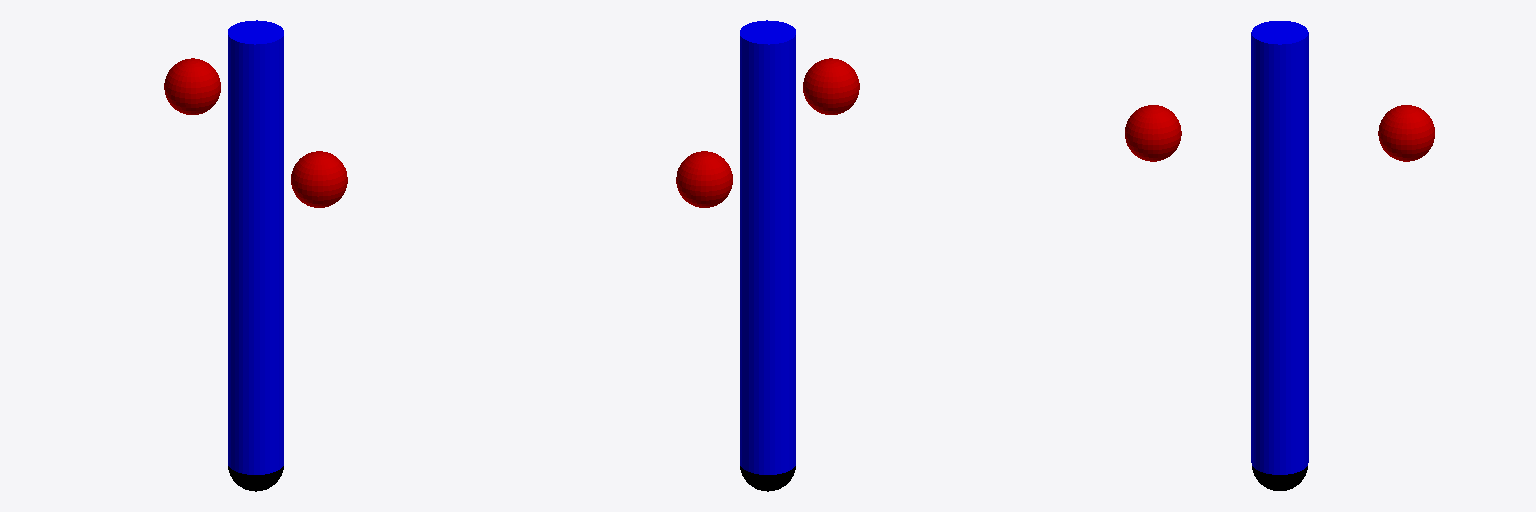
robot.urdf — xarm7:
<?xml version="1.0" ?>
<robot name="xarm7">
  <link name="world"/>
  <joint name="world_joint" type="fixed">
    <parent link="world"/>
    <child link="link_base"/>
    <origin rpy="0 0 0" xyz="0 0 0"/>
  </joint>
  <material name="Black">
    <color rgba="0.0 0.0 0.0 1.0"/>
  </material>
  <material name="Red">
    <color rgba="0.8 0.0 0.0 1.0"/>
  </material>
  <material name="White">
    <color rgba="1.0 1.0 1.0 1.0"/>
  </material>
  <material name="Silver">
    <color rgba="0.753 0.753 0.753 1.0"/>
  </material>
  <link name="link_base">
    <inertial>
      <origin rpy="0 0 0" xyz="-0.021131 -0.0016302 0.056488"/>
      <mass value="0.88556"/>
      <inertia ixx="0.0030595" ixy="0.00012259" ixz="-0.00062705" iyy="0.0037783" iyz="0.00027023" izz="0.0020125"/>
    </inertial>
    <visual>
      <origin rpy="0 0 0" xyz="0 0 0"/>
      <geometry>
        <mesh filename="meshes/xarm7/visual/link_base_smooth.STL"/>
      </geometry>
      <material name="White"/>
    </visual>
    <collision>
      <origin rpy="0 0 0" xyz="0 0 0"/>
      <geometry>
        <mesh filename="meshes/xarm7/collision/linkbase.obj"/>
      </geometry>
    </collision>
  </link>
  <link name="link1">
    <inertial>
      <origin rpy="0 0 0" xyz="-0.0042142 0.02821 -0.0087788"/>
      <mass value="0.42603"/>
      <inertia ixx="0.0014243" ixy="3.9946E-05" ixz="4.7078E-06" iyy="0.00123" iyz="-0.00026073" izz="0.00099229"/>
    </inertial>
    <visual>
      <origin rpy="0 0 0" xyz="0 0 0"/>
      <geometry>
        <mesh filename="meshes/xarm7/visual/link1_smooth.STL"/>
      </geometry>
      <material name="White"/>
    </visual>
    <collision>
      <origin rpy="0 0 0" xyz="0 0 0"/>
      <geometry>
        <mesh filename="meshes/xarm7/collision/link1_vhacd.obj"/>
      </geometry>
    </collision>
  </link>
  <joint name="joint1" type="revolute">
    <origin rpy="0 0 0" xyz="0 0 0.267"/>
    <parent link="link_base"/>
    <child link="link1"/>
    <axis xyz="0 0 1"/>
    <limit effort="50" lower="-6.28318530718" upper="6.28318530718" velocity="3.14"/>
    <dynamics damping="10" friction="1"/>
  </joint>
  <link name="link2">
    <inertial>
      <origin rpy="0 0 0" xyz="-3.3178E-05 -0.12849 0.026337"/>
      <mass value="0.56095"/>
      <inertia ixx="0.0031915" ixy="3.0892E-06" ixz="2.8729E-06" iyy="0.0017468" iyz="-0.0010241" izz="0.00235"/>
    </inertial>
    <visual>
      <origin rpy="0 0 0" xyz="0 0 0"/>
      <geometry>
        <mesh filename="meshes/xarm7/visual/link2_smooth.STL"/>
      </geometry>
      <material name="White"/>
    </visual>
    <collision>
      <origin rpy="0 0 0" xyz="0 0 0"/>
      <geometry>
        <mesh filename="meshes/xarm7/collision/link2_vhacd.obj"/>
      </geometry>
    </collision>
  </link>
  <joint name="joint2" type="revolute">
    <origin rpy="-1.5708 0 0" xyz="0 0 0"/>
    <parent link="link1"/>
    <child link="link2"/>
    <axis xyz="0 0 1"/>
    <limit effort="50" lower="-2.059" upper="2.0944" velocity="3.14"/>
    <dynamics damping="10" friction="1"/>
  </joint>
  <link name="link3">
    <inertial>
      <origin rpy="0 0 0" xyz="0.04223 -0.023258 -0.0096674"/>
      <mass value="0.44463"/>
      <inertia ixx="0.0011454" ixy="0.0001654" ixz="-0.0001951" iyy="0.0010503" iyz="0.00012027" izz="0.0011083"/>
    </inertial>
    <visual>
      <origin rpy="0 0 0" xyz="0 0 0"/>
      <geometry>
        <mesh filename="meshes/xarm7/visual/link3_smooth.STL"/>
      </geometry>
      <material name="White"/>
    </visual>
    <collision>
      <origin rpy="0 0 0" xyz="0 0 0"/>
      <geometry>
        <mesh filename="meshes/xarm7/collision/link3_vhacd.obj"/>
      </geometry>
    </collision>
  </link>
  <joint name="joint3" type="revolute">
    <origin rpy="1.5708 0 0" xyz="0 -0.293 0"/>
    <parent link="link2"/>
    <child link="link3"/>
    <axis xyz="0 0 1"/>
    <limit effort="30" lower="-6.28318530718" upper="6.28318530718" velocity="3.14"/>
    <dynamics damping="5" friction="1"/>
  </joint>
  <link name="link4">
    <inertial>
      <origin rpy="0 0 0" xyz="0.067148 -0.10732 0.024479"/>
      <mass value="0.52387"/>
      <inertia ixx="0.0026033" ixy="0.00053379" ixz="0.00036314" iyy="0.0017649" iyz="-0.00083253" izz="0.0022431"/>
    </inertial>
    <visual>
      <origin rpy="0 0 0" xyz="0 0 0"/>
      <geometry>
        <mesh filename="meshes/xarm7/visual/link4_smooth.STL"/>
      </geometry>
      <material name="White"/>
    </visual>
    <collision>
      <origin rpy="0 0 0" xyz="0 0 0"/>
      <geometry>
        <mesh filename="meshes/xarm7/collision/link4_vhacd.obj"/>
      </geometry>
    </collision>
  </link>
  <joint name="joint4" type="revolute">
    <origin rpy="1.5708 0 0" xyz="0.0525 0 0"/>
    <parent link="link3"/>
    <child link="link4"/>
    <axis xyz="0 0 1"/>
    <limit effort="30" lower="-0.19198" upper="3.927" velocity="3.14"/>
    <dynamics damping="5" friction="1"/>
  </joint>
  <link name="link5">
    <inertial>
      <origin rpy="0 0 0" xyz="-0.00023397 0.036705 -0.080064"/>
      <mass value="0.18554"/>
      <inertia ixx="0.00099549" ixy="8.9957E-07" ixz="8.5285E-07" iyy="0.0008853" iyz="-0.00025682" izz="0.00035048"/>
    </inertial>
    <visual>
      <origin rpy="0 0 0" xyz="0 0 0"/>
      <geometry>
        <mesh filename="meshes/xarm7/visual/link5_smooth.STL"/>
      </geometry>
      <material name="White"/>
    </visual>
    <collision>
      <origin rpy="0 0 0" xyz="0 0 0"/>
      <geometry>
        <mesh filename="meshes/xarm7/collision/link5_vhacd.obj"/>
      </geometry>
    </collision>
  </link>
  <joint name="joint5" type="revolute">
    <origin rpy="1.5708 0 0" xyz="0.0775 -0.3425 0"/>
    <parent link="link4"/>
    <child link="link5"/>
    <axis xyz="0 0 1"/>
    <limit effort="30" lower="-6.28318530718" upper="6.28318530718" velocity="3.14"/>
    <dynamics damping="5" friction="1"/>
  </joint>
  <link name="link6">
    <inertial>
      <origin rpy="0 0 0" xyz="0.058911 0.028469 0.0068428"/>
      <mass value="0.31344"/>
      <inertia ixx="0.00052034" ixy="-0.00014989" ixz="0.00011658" iyy="0.00067968" iyz="6.116E-05" izz="0.00078345"/>
    </inertial>
    <visual>
      <origin rpy="0 0 0" xyz="0 0 0"/>
      <geometry>
        <mesh filename="meshes/xarm7/visual/link6_smooth.STL"/>
      </geometry>
      <material name="White"/>
    </visual>
    <collision>
      <origin rpy="0 0 0" xyz="0 0 0"/>
      <geometry>
        <mesh filename="meshes/xarm7/collision/link6_vhacd.obj"/>
      </geometry>
    </collision>
  </link>
  <joint name="joint6" type="revolute">
    <origin rpy="1.5708 0 0" xyz="0 0 0"/>
    <parent link="link5"/>
    <child link="link6"/>
    <axis xyz="0 0 1"/>
    <limit effort="20" lower="-1.69297" upper="3.14159265359" velocity="3.14"/>
    <dynamics damping="2" friction="1"/>
  </joint>
  <link name="link7">
    <inertial>
      <origin rpy="0 0 0" xyz="-1.5846E-05 -0.0046377 -0.012705"/>
      <mass value="0.31468"/>
      <inertia ixx="0.00016985" ixy="1.1102E-07" ixz="5.1075E-08" iyy="0.00011924" iyz="-2.1251E-06" izz="0.00026032"/>
    </inertial>
    <visual>
      <origin rpy="0 0 0" xyz="0 0 0"/>
      <geometry>
        <mesh filename="meshes/xarm7/visual/link7_smooth.STL"/>
      </geometry>
      <material name="Silver"/>
    </visual>
    <collision>
      <origin rpy="0 0 0" xyz="0 0 0"/>
      <geometry>
        <mesh filename="meshes/xarm7/collision/link7_vhacd.obj"/>
      </geometry>
    </collision>
  </link>
  <joint name="joint7" type="revolute">
    <origin rpy="-1.5708 0 0" xyz="0.076 0.097 0"/>
    <parent link="link6"/>
    <child link="link7"/>
    <axis xyz="0 0 1"/>
    <limit effort="20" lower="-6.28318530718" upper="6.28318530718" velocity="3.14"/>
    <dynamics damping="2" friction="1"/>
  </joint>

<!--
  <body name="rod">
    <geom type="cylinder" size="0.01 0.15" pos="0 0 0.075" name="rod:geom"/>
    <body name="rod:tip">
      <geom type="sphere" size="0.01" pos="0 0 0.225" rgba="1 0 0 1" contype="0" conaffinity="0" name="rod:tip"/>
    </body>
  </body>
-->


<!--  XArm Gripper -->
<!-- =============================================================================================================== -->
<!-- | This document was autogenerated by xacro from -->
<!--   https://github.com/xArm-Developer/xarm_ros2/blob/humble/xarm_moveit_config/launch/xarm7_moveit_fake.launch.py -->
<!--   ros2 launch xarm_moveit_config xarm7_moveit_fake.launch.py add_gripper:=true -->
<!-- | EDITING THIS FILE BY HAND IS NOT RECOMMENDED | -->
<!-- =============================================================================================================== -->
  <link name="link_eef"/>
  <joint name="joint_eef" type="fixed">
    <origin rpy="0 0 0" xyz="0 0 0"/>
    <parent link="link7"/>
    <child link="link_eef"/>
  </joint>

  <!--
  <link name="eef_x">
    <visual>
      <geometry><box size="0.01 0.01 0.05"/></geometry>
      <material name="eef_x"><color rgba="1 0 0 0.75"/></material>
    </visual>
  </link>
  <joint name="eef_x_joint" type="fixed">
    <parent link="link_eef"/>
    <child link="eef_x"/>
    <origin rpy="0 1.570796327 0" xyz="0.025 0 0"/>
  </joint>

  <link name="eef_y">
    <visual>
      <geometry><box size="0.01 0.01 0.05"/></geometry>
      <material name="eef_y"><color rgba="0 1 0 0.75"/></material>
    </visual>
  </link>
  <joint name="eef_y_joint" type="fixed">
    <parent link="link_eef"/>
    <child link="eef_y"/>
    <origin rpy="-1.570796327 0 0" xyz="0 0.025 0"/>
  </joint>

  <link name="eef_z">
    <visual>
      <geometry><box size="0.01 0.01 0.05"/></geometry>
      <material name="eef_z"><color rgba="0 0 1 0.75"/></material>
    </visual>
  </link>
  <joint name="eef_z_joint" type="fixed">
    <parent link="link_eef"/>
    <child link="eef_z"/>
    <origin rpy="0 0 0" xyz="0 0 0.025"/>
  </joint>
  -->

  <joint name="gripper_fix" type="fixed">
    <parent link="link_eef"/>
    <child link="xarm_gripper_base_link"/>
    <origin rpy="0 0 0" xyz="0 0 0"/>
  </joint>
  <link name="xarm_gripper_base_link">
    <inertial>
      <origin rpy="0 0 0" xyz="-0.00065489 -0.0018497 0.048028"/>
      <mass value="0.54156"/>
      <inertia ixx="0.00047106" ixy="3.9292E-07" ixz="2.6537E-06" iyy="0.00033072" iyz="-1.0975E-05" izz="0.00025642"/>
    </inertial>
    <visual>
      <geometry>
        <mesh filename="meshes/xarm_gripper/base_link.STL"/>
      </geometry>
      <origin rpy="0 0 0" xyz="0 0 0"/>
      <material name="White"/>
    </visual>
    <collision>
      <geometry>
        <mesh filename="meshes/xarm_gripper/base_link.STL"/>
      </geometry>
      <origin rpy="0 0 0" xyz="0 0 0"/>
    </collision>
  </link>
  <link name="left_outer_knuckle">
    <inertial>
      <origin rpy="0 0 0" xyz="2.9948E-14 0.021559 0.015181"/>
      <mass value="0.033618"/>
      <inertia ixx="1.9111E-05" ixy="-1.8803E-17" ixz="-1.1002E-17" iyy="6.6256E-06" iyz="-7.3008E-06" izz="1.3185E-05"/>
    </inertial>
    <visual>
      <geometry>
        <mesh filename="meshes/xarm_gripper/left_outer_knuckle.STL"/>
      </geometry>
      <origin rpy="0 0 0" xyz="0 0 0"/>
      <material name="Silver"/>
    </visual>
    <collision>
      <geometry>
        <mesh filename="meshes/xarm_gripper/left_outer_knuckle.STL"/>
      </geometry>
      <origin rpy="0 0 0" xyz="0 0 0"/>
    </collision>
  </link>
  <joint name="drive_joint" type="revolute">
    <origin rpy="0 0 0" xyz="0 0.035 0.059098"/>
    <parent link="xarm_gripper_base_link"/>
    <child link="left_outer_knuckle"/>
    <axis xyz="1 0 0"/>
    <limit effort="50" lower="0" upper="0.85" velocity="2"/>
  </joint>
  <link name="left_finger">
    <inertial>
      <origin rpy="0 0 0" xyz="-2.4536E-14 -0.016413 0.029258"/>
      <mass value="0.048304"/>
      <inertia ixx="1.7493E-05" ixy="-4.2156E-19" ixz="6.9164E-18" iyy="1.7225E-05" iyz="4.6433E-06" izz="5.1466E-06"/>
    </inertial>
    <visual>
      <geometry>
        <mesh filename="meshes/xarm_gripper/left_finger.STL"/>
      </geometry>
      <origin rpy="0 0 0" xyz="0 0 0"/>
      <material name="Silver"/>
    </visual>
    <collision>
      <geometry>
        <mesh filename="meshes/xarm_gripper/left_finger.STL"/>
      </geometry>
      <origin rpy="0 0 0" xyz="0 0 0"/>
    </collision>
  </link>
  <joint name="left_finger_joint" type="revolute">
    <origin rpy="0 0 0" xyz="0 0.035465 0.042039"/>
    <parent link="left_outer_knuckle"/>
    <child link="left_finger"/>
    <axis xyz="-1 0 0"/>
    <limit effort="50" lower="0" upper="0.85" velocity="2"/>
    <mimic joint="drive_joint" multiplier="1" offset="0"/>
  </joint>
  <link name="left_inner_knuckle">
    <inertial>
      <origin rpy="0 0 0" xyz="1.86600784687907E-06 0.0220467847633621 0.0261334672830885"/>
      <mass value="0.0230125781256706"/>
      <inertia ixx="6.09490024271906E-06" ixy="6.06651326160071E-11" ixz="7.19102670500635E-11" iyy="6.01955084375188E-06" iyz="-2.75316812991721E-06" izz="5.07862004479903E-06"/>
    </inertial>
    <visual>
      <geometry>
        <mesh filename="meshes/xarm_gripper/left_inner_knuckle.STL"/>
      </geometry>
      <origin rpy="0 0 0" xyz="0 0 0"/>
      <material name="Silver"/>
    </visual>
    <collision>
      <geometry>
        <mesh filename="meshes/xarm_gripper/left_inner_knuckle.STL"/>
      </geometry>
      <origin rpy="0 0 0" xyz="0 0 0"/>
    </collision>
  </link>
  <joint name="left_inner_knuckle_joint" type="revolute">
    <origin rpy="0 0 0" xyz="0 0.02 0.074098"/>
    <parent link="xarm_gripper_base_link"/>
    <child link="left_inner_knuckle"/>
    <axis xyz="1 0 0"/>
    <limit effort="50" lower="0" upper="0.85" velocity="2"/>
    <mimic joint="drive_joint" multiplier="1" offset="0"/>
  </joint>
  <link name="right_outer_knuckle">
    <inertial>
      <origin rpy="0 0 0" xyz="-3.1669E-14 -0.021559 0.015181"/>
      <mass value="0.033618"/>
      <inertia ixx="1.9111E-05" ixy="-1.8789E-17" ixz="1.0986E-17" iyy="6.6256E-06" iyz="7.3008E-06" izz="1.3185E-05"/>
    </inertial>
    <visual>
      <geometry>
        <mesh filename="meshes/xarm_gripper/right_outer_knuckle.STL"/>
      </geometry>
      <origin rpy="0 0 0" xyz="0 0 0"/>
      <material name="Silver"/>
    </visual>
    <collision>
      <geometry>
        <mesh filename="meshes/xarm_gripper/right_outer_knuckle.STL"/>
      </geometry>
      <origin rpy="0 0 0" xyz="0 0 0"/>
    </collision>
  </link>
  <joint name="right_outer_knuckle_joint" type="revolute">
    <origin rpy="0 0 0" xyz="0 -0.035 0.059098"/>
    <parent link="xarm_gripper_base_link"/>
    <child link="right_outer_knuckle"/>
    <axis xyz="-1 0 0"/>
    <limit effort="50" lower="0" upper="0.85" velocity="2"/>
    <mimic joint="drive_joint" multiplier="1" offset="0"/>
  </joint>
  <link name="right_finger">
    <inertial>
      <origin rpy="0 0 0" xyz="2.5618E-14 0.016413 0.029258"/>
      <mass value="0.048304"/>
      <inertia ixx="1.7493E-05" ixy="-5.0014E-19" ixz="-7.5079E-18" iyy="1.7225E-05" iyz="-4.6435E-06" izz="5.1466E-06"/>
    </inertial>
    <visual>
      <geometry>
        <mesh filename="meshes/xarm_gripper/right_finger.STL"/>
      </geometry>
      <origin rpy="0 0 0" xyz="0 0 0"/>
      <material name="Silver"/>
    </visual>
    <collision>
      <geometry>
        <mesh filename="meshes/xarm_gripper/right_finger.STL"/>
      </geometry>
      <origin rpy="0 0 0" xyz="0 0 0"/>
    </collision>
  </link>
  <joint name="right_finger_joint" type="revolute">
    <origin rpy="0 0 0" xyz="0 -0.035465 0.042039"/>
    <parent link="right_outer_knuckle"/>
    <child link="right_finger"/>
    <axis xyz="1 0 0"/>
    <limit effort="50" lower="0" upper="0.85" velocity="2"/>
    <mimic joint="drive_joint" multiplier="1" offset="0"/>
  </joint>
  <link name="right_inner_knuckle">
    <inertial>
      <origin rpy="0 0 0" xyz="1.866E-06 -0.022047 0.026133"/>
      <mass value="0.023013"/>
      <inertia ixx="6.0949E-06" ixy="-6.0665E-11" ixz="7.191E-11" iyy="6.0197E-06" iyz="2.7531E-06" izz="5.0784E-06"/>
    </inertial>
    <visual>
      <geometry>
        <mesh filename="meshes/xarm_gripper/right_inner_knuckle.STL"/>
      </geometry>
      <origin rpy="0 0 0" xyz="0 0 0"/>
      <material name="Silver"/>
    </visual>
    <collision>
      <geometry>
        <mesh filename="meshes/xarm_gripper/right_inner_knuckle.STL"/>
      </geometry>
      <origin rpy="0 0 0" xyz="0 0 0"/>
    </collision>
  </link>
  <joint name="right_inner_knuckle_joint" type="revolute">
    <origin rpy="0 0 0" xyz="0 -0.02 0.074098"/>
    <parent link="xarm_gripper_base_link"/>
    <child link="right_inner_knuckle"/>
    <axis xyz="-1 0 0"/>
    <limit effort="50" lower="0" upper="0.85" velocity="2"/>
    <mimic joint="drive_joint" multiplier="1" offset="0"/>
  </joint>
  <link name="link_tcp">
    <visual>
      <geometry>
        <sphere radius="0.01"/>
      </geometry>
      <material name="Green">
        <color rgba="0 1 0 0.75"/>
      </material>
    </visual>
  </link>
  <joint name="joint_tcp" type="fixed">
    <origin rpy="0 0 0" xyz="0 0 0.172"/>
    <parent link="xarm_gripper_base_link"/>
    <child link="link_tcp"/>
  </joint>

  <link name="rod">
    <visual>
      <geometry><cylinder radius="0.01" length="0.1666"/></geometry>
      <material name="rod_color"><color rgba="0 0 1 0.75"/></material>
    </visual>
    <collision>
      <geometry><cylinder radius="0.01" length="0.1666"/></geometry>
    </collision>
  </link>
  <joint name="rod_joint" type="fixed">
    <parent link="xarm_gripper_base_link"/>
    <child link="rod"/>
    <origin rpy="0 0 0" xyz="0 0 0.186442"/> <!-- 0.103142 -->
  </joint>

  <link name="rod_tip">
    <visual>
      <geometry><sphere radius="0.01"/></geometry>
      <material name="target_black"><color rgba="0 0 0 0.75"/></material>
    </visual>
    <!--
    <collision>
      <geometry><sphere radius="0.01"/></geometry>
    </collision>
    -->
  </link>
  <joint name="rod_tip_joint" type="fixed">
    <parent link="xarm_gripper_base_link"/>
    <child link="rod_tip"/>
    <origin rpy="0 0 0" xyz="0 0 0.269742"/>
  </joint>

  <link name="left_finger_tcp">
    <visual>
      <geometry>
        <sphere radius="0.01"/>
      </geometry>
      <material name="Red"/>
    </visual>
  </link>
  <joint name="left_finger_tcp_joint" type="fixed">
    <parent link="left_finger"/>
    <child link="left_finger_tcp"/>
    <origin rpy="0 0 0" xyz="0 -0.026003 0.041003"/>
  </joint>

  <link name="right_finger_tcp">
    <visual>
      <geometry>
        <sphere radius="0.01"/>
      </geometry>
      <material name="Red"/>
    </visual>
  </link>
  <joint name="right_finger_tcp_joint" type="fixed">
    <parent link="right_finger"/>
    <child link="right_finger_tcp"/>
    <origin rpy="0 0 0" xyz="0 0.026003 0.041003"/>
  </joint>

  <!--
  <link name="left_finger_tip">
    <visual>
      <geometry>
        <sphere radius="0.01"/>
      </geometry>
      <material name="Red"/>
    </visual>
  </link>
  <joint name="left_finger_tip_joint" type="fixed">
    <parent link="left_finger"/>
    <child link="left_finger_tip"/>
    <origin rpy="0 0 0" xyz="0 -0.026003 0.0708629973320961"/>
  </joint>

  <link name="right_finger_tip">
    <visual>
      <geometry>
        <sphere radius="0.005"/>
      </geometry>
      <material name="Red"/>
    </visual>
  </link>
  <joint name="right_finger_tip_joint" type="fixed">
    <parent link="right_finger"/>
    <child link="right_finger_tip"/>
    <origin rpy="0 0 0" xyz="0 0.026003 0.0708629973320961"/>
  </joint>
  -->
</robot>

--- Render facts (derived) ---
The picture shows the robot from 3 angles, left to right: view 1: azimuth 30°, elevation 25°; view 2: azimuth 150°, elevation 25°; view 3: azimuth 270°, elevation 25°; orthographic projection.
Model xarm7 with 22 links and 21 joints (13 revolute, 8 fixed), rooted at world, posed all joints at 0.
Links seen in each view (by area): view 1: rod, left_finger_tcp, right_finger_tcp, rod_tip; view 2: rod, right_finger_tcp, left_finger_tcp, rod_tip; view 3: rod, left_finger_tcp, right_finger_tcp, rod_tip.
Boxes of the visible links, <box> form: rod: <box>228,20,283,474</box>; left_finger_tcp: <box>291,151,347,207</box>; right_finger_tcp: <box>164,58,220,114</box>; rod_tip: <box>228,466,283,491</box>; rod: <box>740,20,795,474</box>; right_finger_tcp: <box>676,151,732,207</box>; left_finger_tcp: <box>803,58,859,114</box>; rod_tip: <box>740,466,795,491</box>; rod: <box>1251,21,1308,474</box>; left_finger_tcp: <box>1125,105,1181,161</box>; right_finger_tcp: <box>1378,105,1434,161</box>; rod_tip: <box>1252,466,1307,490</box>.
Bounding box of the posed robot: 0.02 × 0.1089 × 0.1766 m (x, y, z).
0 mesh visuals loaded from 15 distinct referenced files (none loaded); not drawn: 15 (reference not matched to a file when rendering).